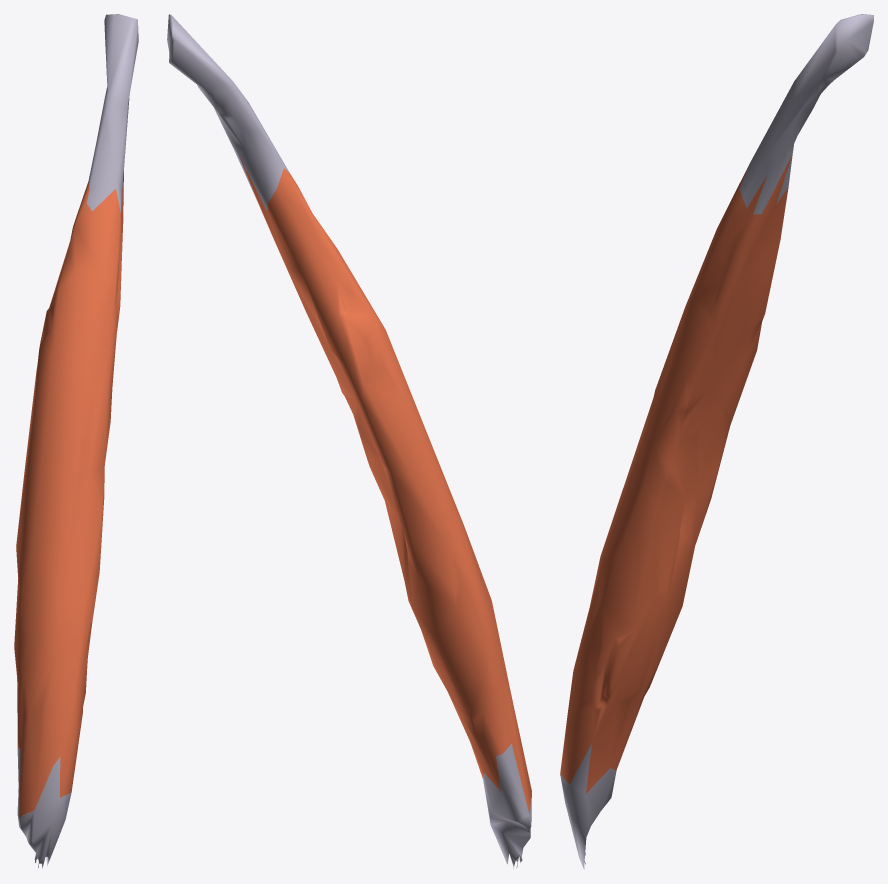
Rendered from Flexor_digiti_minimi_hand_left.glb.
3 views of the same model, side by side, from view 1: azimuth 30°, elevation 25°; view 2: azimuth 150°, elevation 25°; view 3: azimuth 270°, elevation 25° (orthographic). The views are drawn at different scales.
Parts seen in each view (by area): view 1: Flexor_digiti_minimi_of_hand.l_Generated_Mesh_From_X3D.584; view 2: Flexor_digiti_minimi_of_hand.l_Generated_Mesh_From_X3D.584; view 3: Flexor_digiti_minimi_of_hand.l_Generated_Mesh_From_X3D.584.
Part boxes in pixels (x1,y1,x2,y2): Flexor_digiti_minimi_of_hand.l_Generated_Mesh_From_X3D.584: (14,14,138,868); Flexor_digiti_minimi_of_hand.l_Generated_Mesh_From_X3D.584: (167,14,531,869); Flexor_digiti_minimi_of_hand.l_Generated_Mesh_From_X3D.584: (560,14,873,869).
Size of the model in its own units: 0.0185 by 0.0621 by 0.0182.
